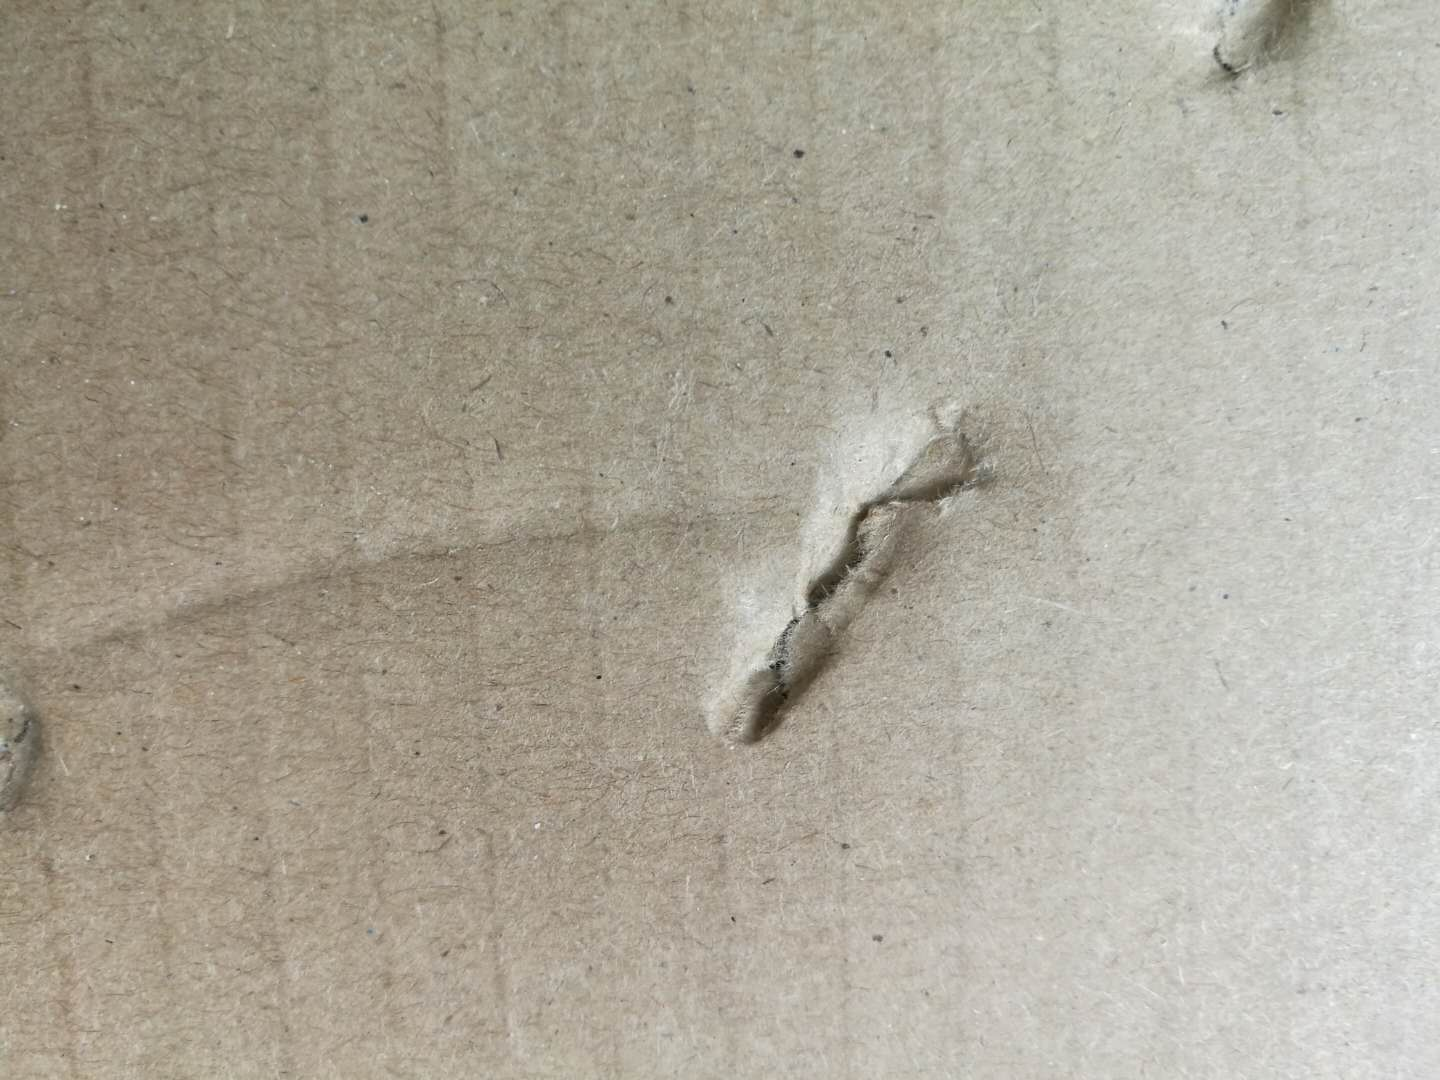defect: (5, 428, 1035, 670), (674, 376, 1043, 809), (1159, 1, 1388, 136), (2, 670, 77, 847)
